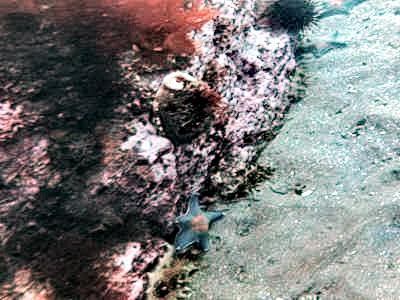urchin: (252, 3, 320, 37)
